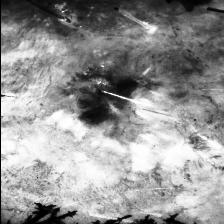Potentially Malignant Skin Tumors: (69, 70, 139, 126)
